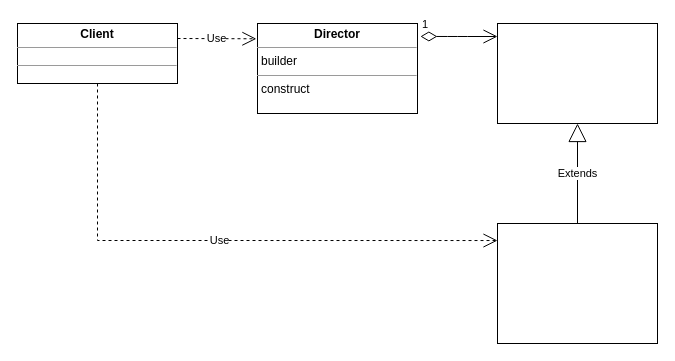
The diagram is 675 pixels wide and 361 high, and some of its shapes have lost their labels. Here are the shapes that lost their labels. From the top down, the centre of each, then its label:
At point (577, 73): "Builder buildPart1 buildPart2 buildPart3".
At point (577, 283): "ConcreteBuilder buildPart1 buildPart2 buildPart3 getResult".
